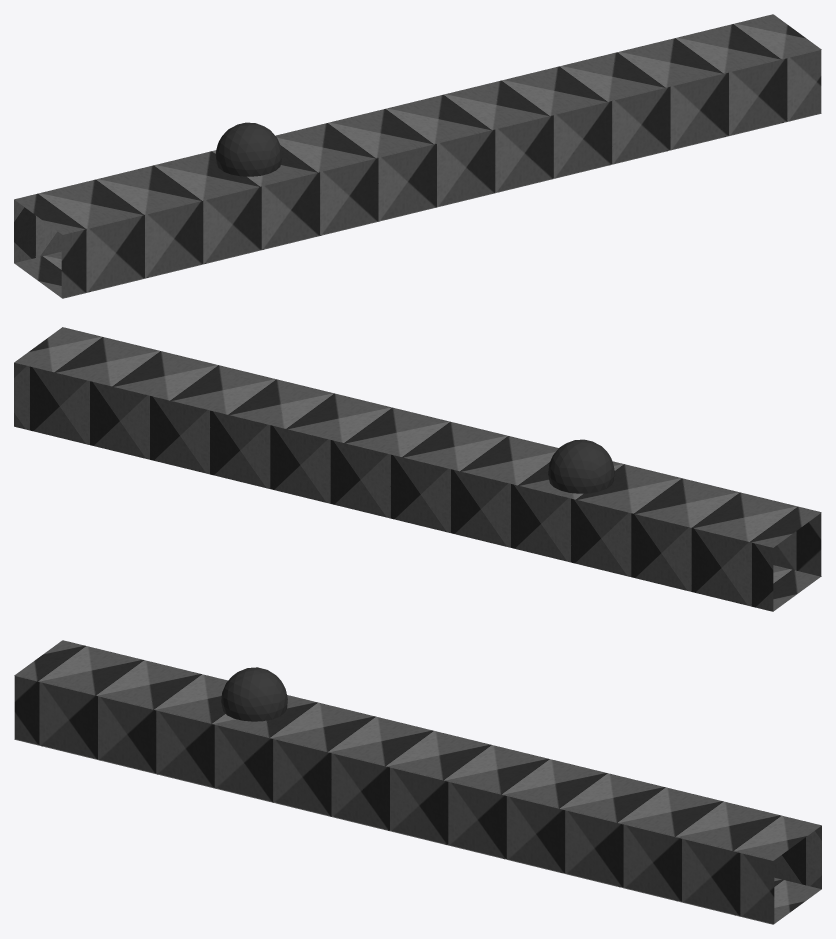
The model's file is vent_port_blend.glb.
The picture shows the model from 3 angles, top to bottom: view 1: azimuth 30°, elevation 25°; view 2: azimuth 150°, elevation 25°; view 3: azimuth 330°, elevation 25°; orthographic projection.
Parts seen in each view (by area): view 1: Plane.001, Icosphere; view 2: Plane.001, Icosphere; view 3: Plane.001, Icosphere.
Part boxes in pixels (x1,y1,x2,y2): Plane.001: (14, 14, 821, 298); Icosphere: (215, 122, 282, 176); Plane.001: (14, 327, 821, 611); Icosphere: (548, 439, 614, 493); Plane.001: (14, 640, 821, 924); Icosphere: (221, 667, 287, 721).
Size of the model in its own units: 11.38 by 1.46 by 1.26.
2 materials, 1 textured.
